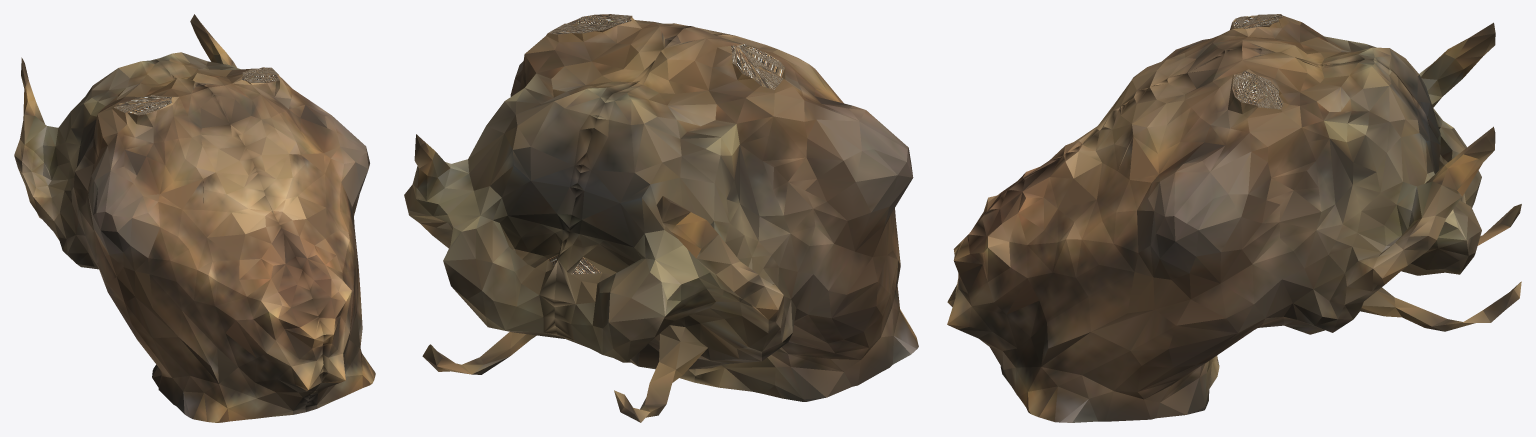
The model's file is Sungaya_inexpectata_31mg.087.obj.
The picture shows the model from 3 angles, left to right: view 1: azimuth 30°, elevation 25°; view 2: azimuth 150°, elevation 25°; view 3: azimuth 270°, elevation 25°; orthographic projection. The views are drawn at different scales.
Visible parts, largest first — view 1: 03-caput.000_Sungaya_inexpectata_31mg.087; view 2: 03-caput.000_Sungaya_inexpectata_31mg.087; view 3: 03-caput.000_Sungaya_inexpectata_31mg.087.
Boxes of the visible parts, x1,y1,x2,y2 form: 03-caput.000_Sungaya_inexpectata_31mg.087: [14, 14, 375, 422]; 03-caput.000_Sungaya_inexpectata_31mg.087: [404, 14, 918, 422]; 03-caput.000_Sungaya_inexpectata_31mg.087: [947, 14, 1521, 422].
Bounding box in the file's own units: 0.00193 × 0.00174 × 0.00284.
1 material, 1 textured.
